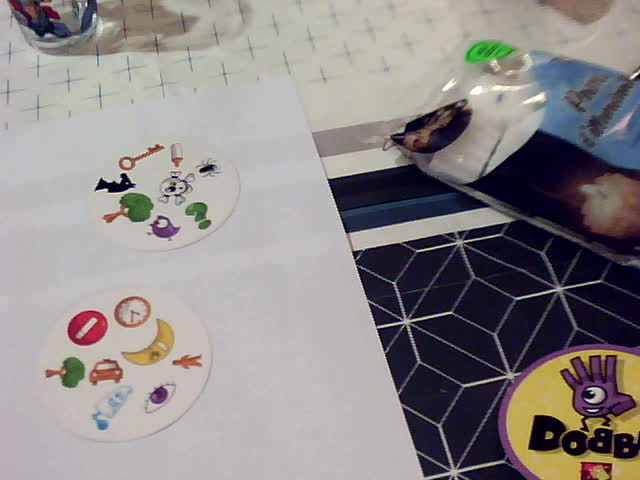araignee: (194, 155, 228, 181)
arbre: (97, 191, 156, 227), (39, 353, 86, 392)
biberon: (167, 140, 187, 170)
bonhomme: (170, 348, 208, 372)
cheval: (90, 172, 138, 197)
cle: (113, 141, 166, 172)
fantome: (87, 383, 138, 431)
horloge: (110, 293, 152, 329)
lune: (121, 318, 178, 365)
oeuil: (142, 377, 180, 417)
oiseau: (146, 213, 183, 242)
point_interrogation: (180, 200, 220, 230)
sens_interdit: (64, 309, 110, 350)
tete_mort: (149, 169, 198, 207)
voiture: (86, 351, 125, 386)
